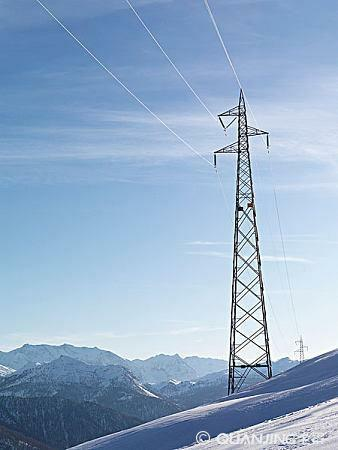power_tower: (206, 87, 279, 388), (289, 333, 314, 363)
